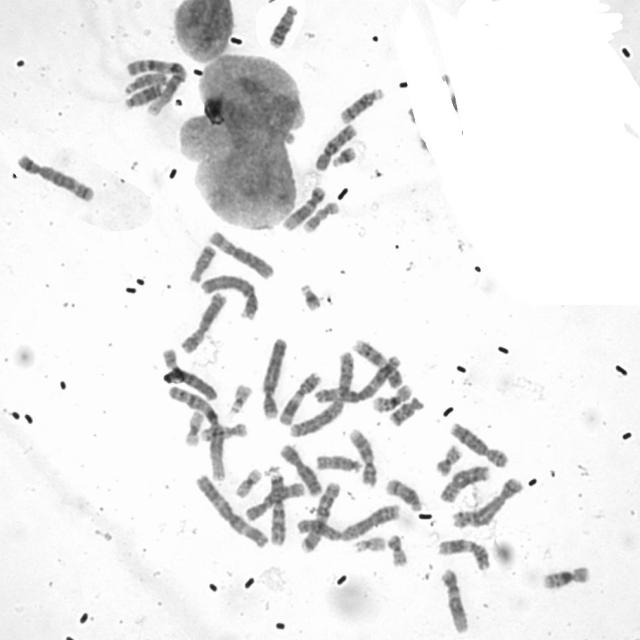A1: (164, 382, 228, 482), (122, 53, 188, 115)
A2: (285, 347, 356, 439), (293, 499, 402, 544)
A3: (191, 471, 270, 549), (310, 350, 403, 406)
B4: (198, 269, 262, 321), (259, 334, 290, 420)
B5: (13, 150, 97, 203), (449, 473, 524, 530)
C10: (242, 477, 306, 523), (311, 119, 359, 172)
C11: (275, 368, 323, 427), (435, 534, 494, 572)
C12: (280, 181, 328, 232), (438, 565, 471, 634)
C6: (206, 227, 276, 280), (158, 345, 220, 402)
C7: (298, 478, 344, 555), (264, 464, 288, 547)
C8: (446, 418, 511, 468), (436, 461, 492, 504)
C9: (350, 335, 405, 389), (345, 424, 379, 488)
D13: (265, 0, 299, 49), (122, 79, 166, 110)
D14: (337, 83, 387, 124), (382, 473, 423, 512)
D15: (120, 68, 170, 95), (313, 450, 364, 474)
E16: (538, 561, 592, 591), (368, 379, 414, 414)
E17: (300, 197, 341, 234), (196, 418, 249, 443)
E18: (386, 392, 425, 428), (186, 241, 218, 284)
F19: (232, 464, 264, 499), (181, 407, 206, 448)
F20: (433, 440, 463, 477), (384, 530, 410, 569)
G21: (296, 279, 324, 312), (329, 142, 359, 168)
G22: (226, 379, 255, 415), (350, 532, 388, 554)
X: (178, 288, 228, 355), (276, 440, 324, 498)
